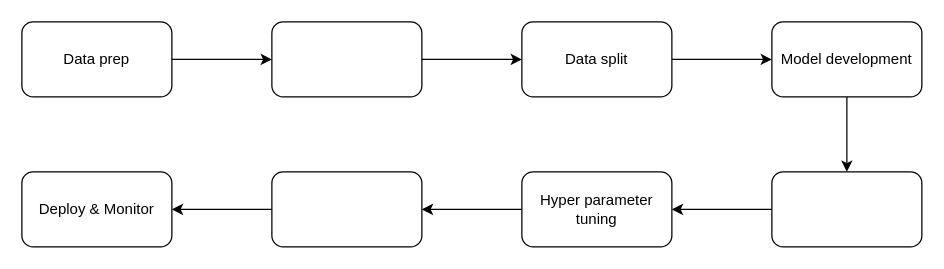
The diagram is 944 pixels wide and 269 high, and some of its shapes have lost their labels. Each missing label, with the centre of its shape:
Data profiling: the point at 346,59
Feature selection: the point at 846,209
Final model training: the point at 346,209
